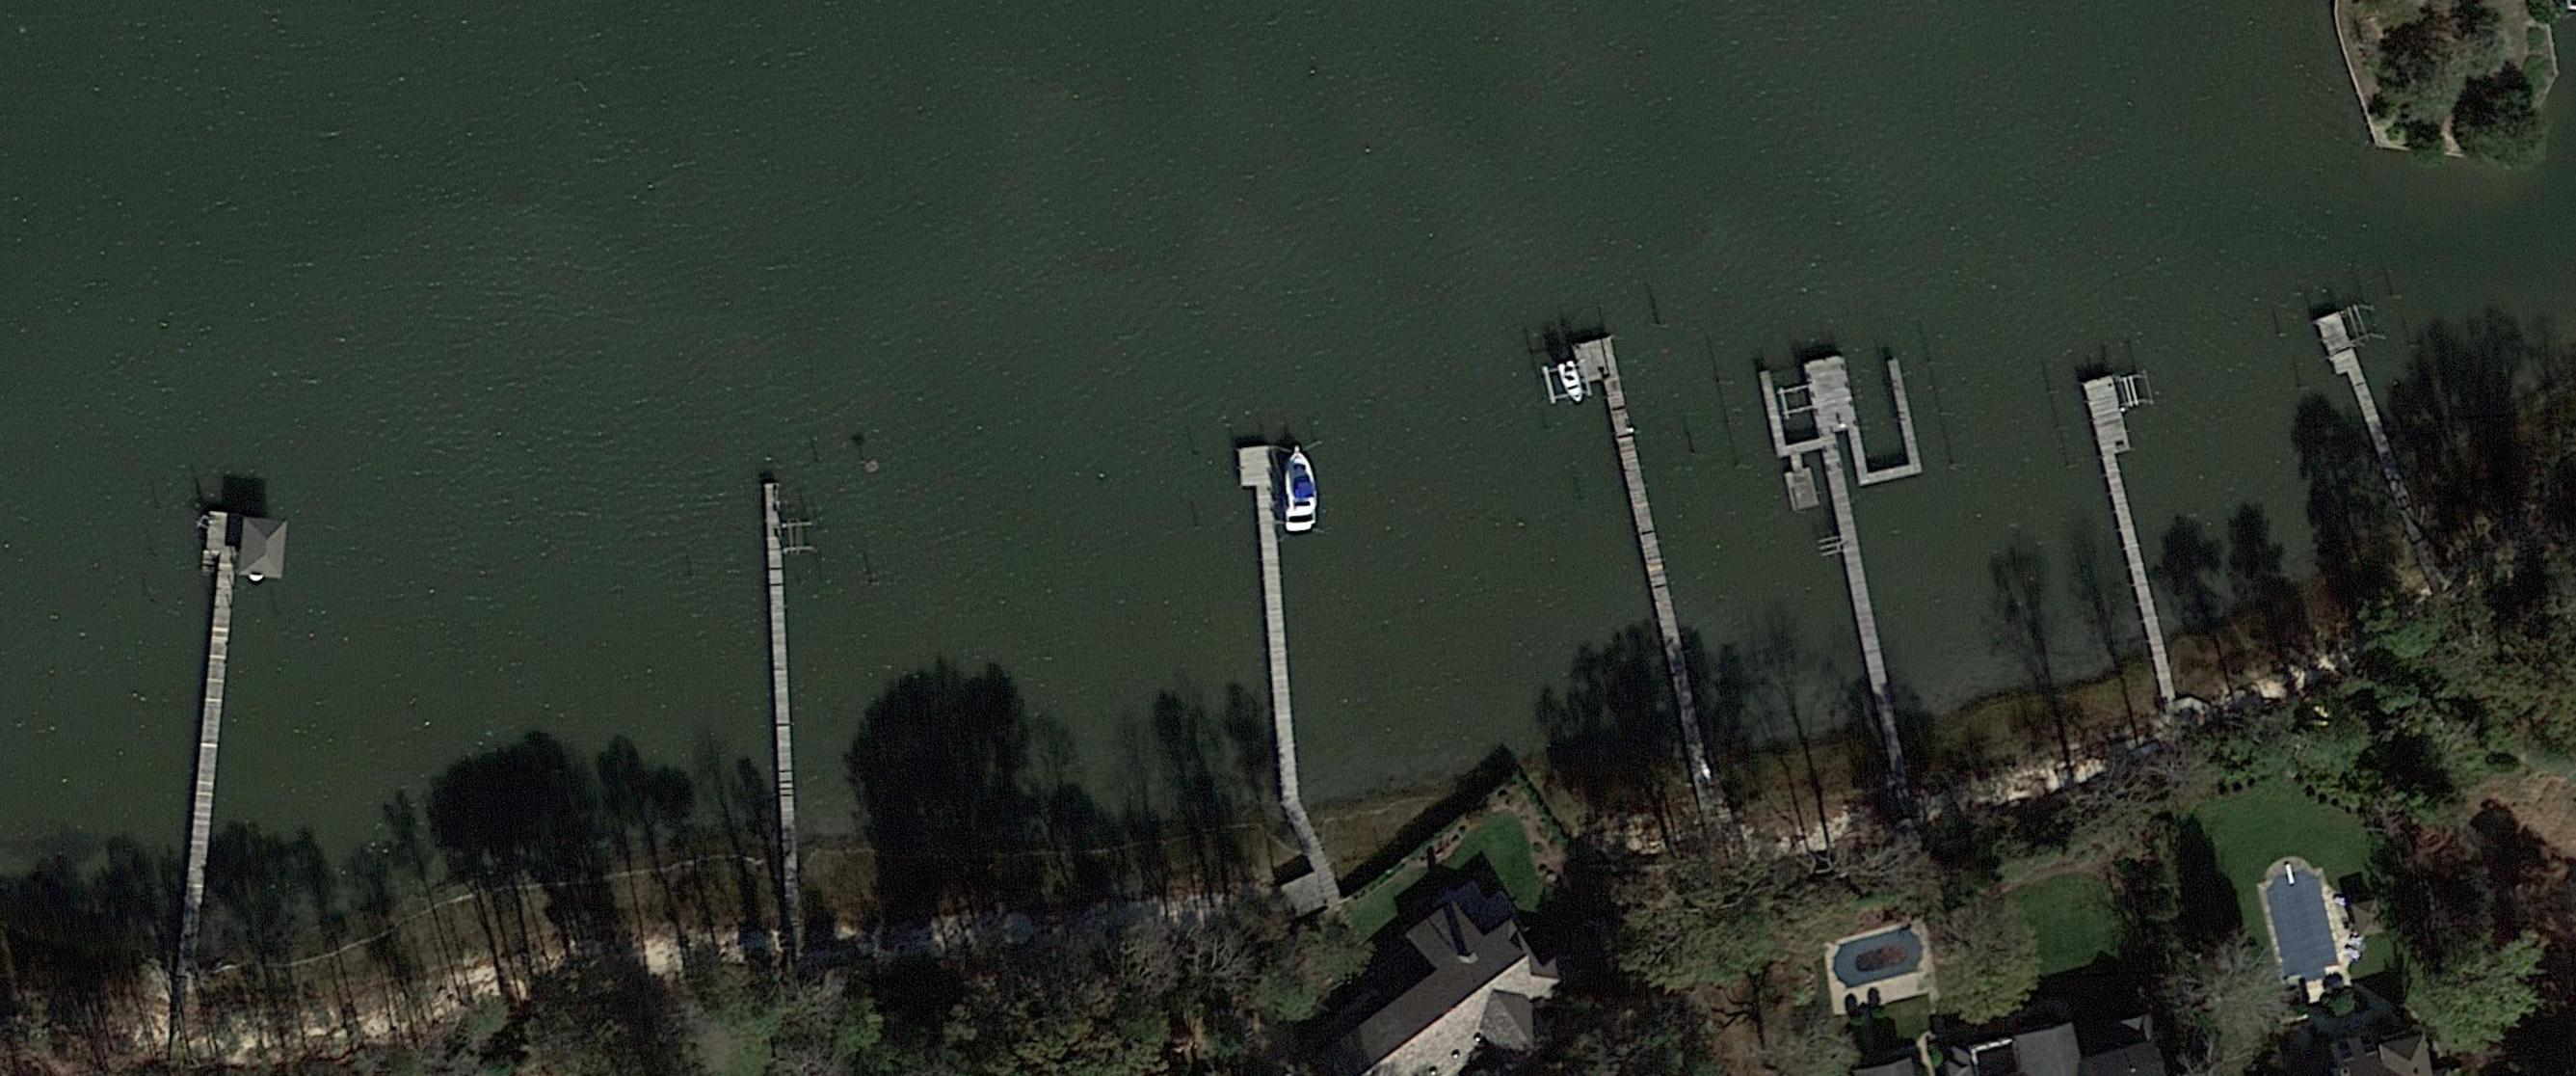harbor: (1758, 350, 1948, 636), (171, 509, 291, 841), (1571, 338, 1677, 637), (1235, 445, 1303, 803), (2083, 368, 2192, 565), (2315, 301, 2423, 455), (764, 483, 797, 797)
ship: (1278, 442, 1319, 540), (1556, 356, 1589, 409)
